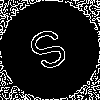S: (25, 25, 76, 82)
